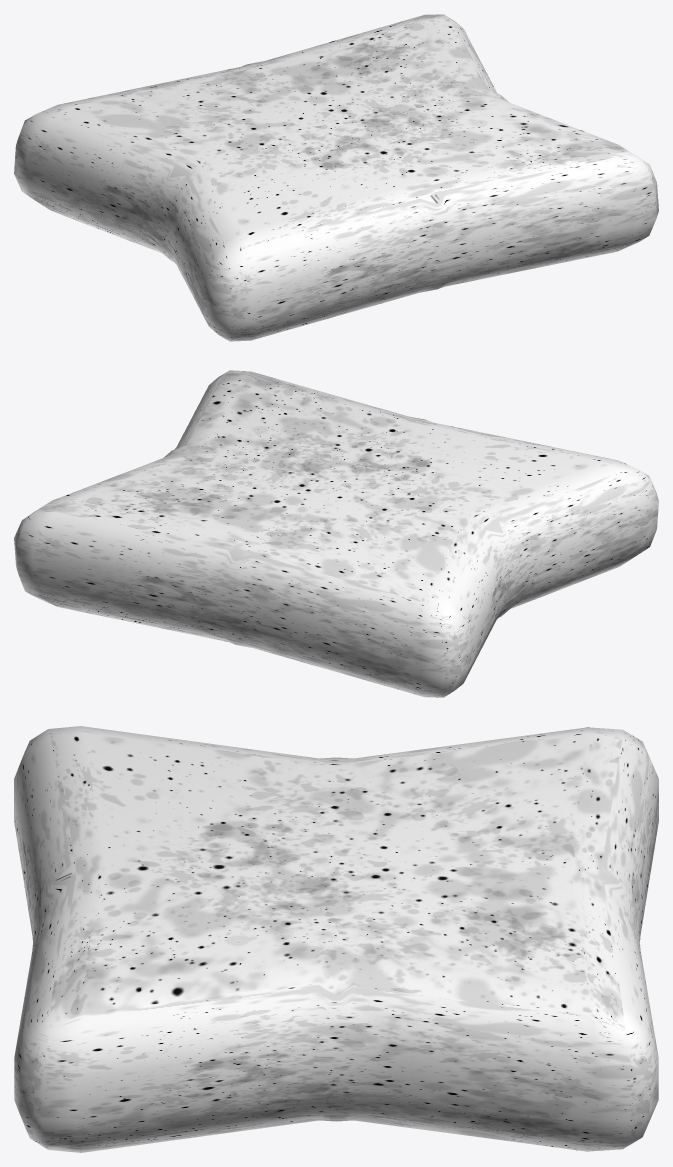
The model's file is pillow.obj.
The picture shows the model from 3 angles, top to bottom: view 1: azimuth 30°, elevation 25°; view 2: azimuth 150°, elevation 25°; view 3: azimuth 270°, elevation 25°; orthographic projection. The views are drawn at different scales.
Visible parts, largest first — view 1: pillow; view 2: pillow; view 3: pillow.
Part boxes in pixels (left/top/right/bottom): pillow: left=14, top=14, right=658, bottom=341; pillow: left=14, top=370, right=658, bottom=697; pillow: left=14, top=726, right=658, bottom=1152.
Size of the model in its own units: 2.79 by 0.6306 by 2.37.
